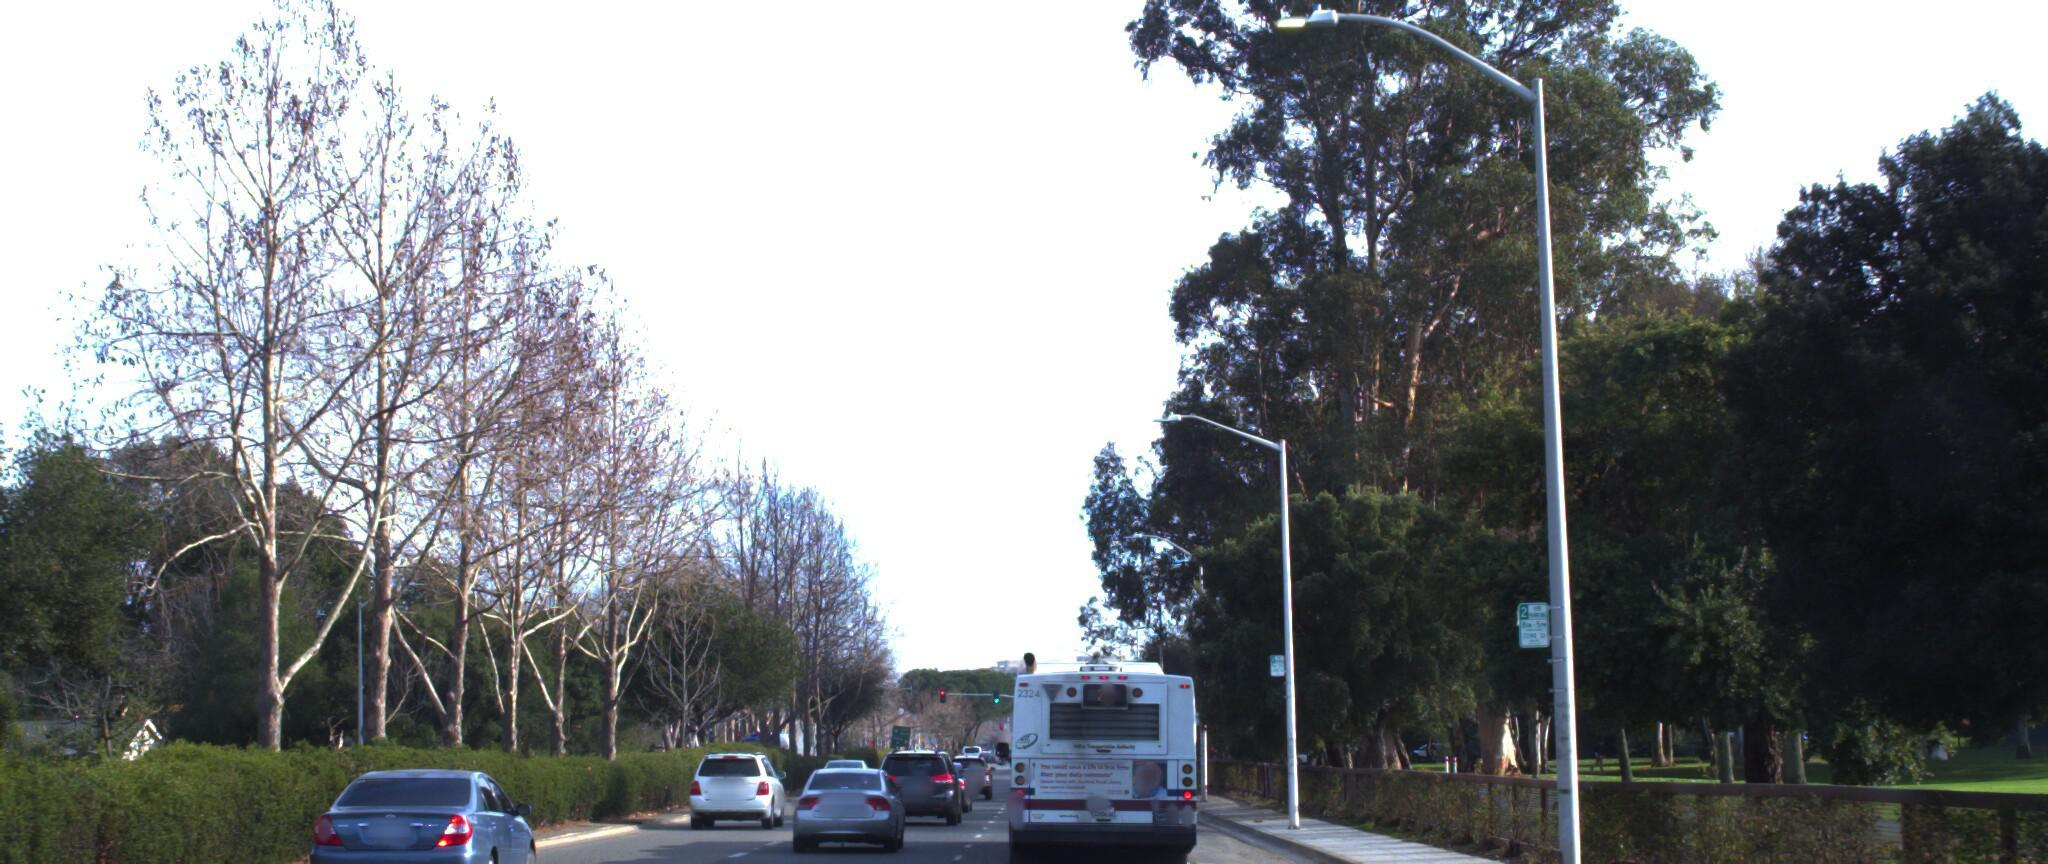bus: (995, 636, 1213, 864)
car: (293, 757, 539, 864), (781, 747, 905, 841), (694, 743, 793, 824), (875, 731, 964, 812), (0, 790, 24, 864)
